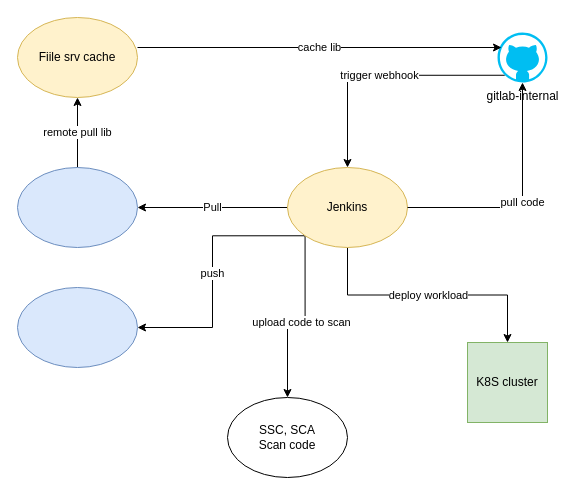
Image size: 576x495. Some labels were removed from this diagram. Each missing label, with the centre of its shape:
"Image repository Nexus" belongs at point 77,327.
"Library repository Nexus" belongs at point 77,207.
